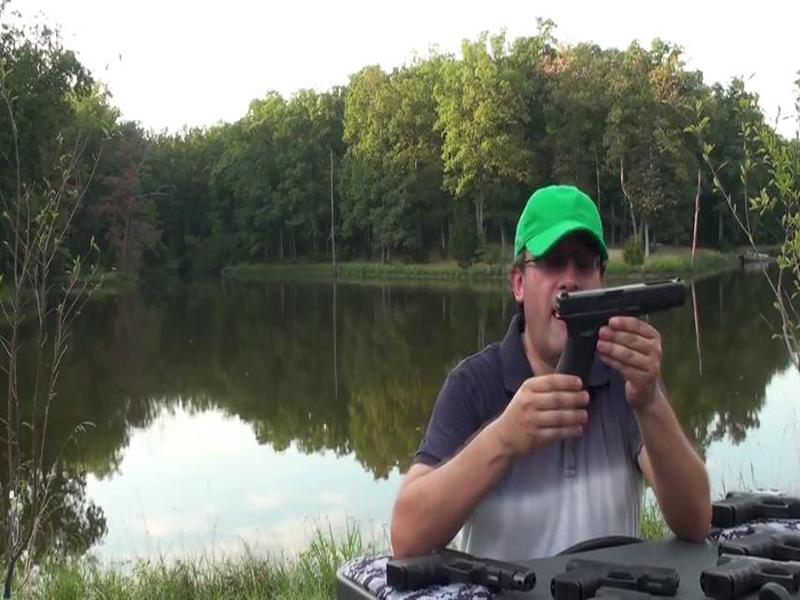Pistola: (543, 280, 687, 391), (379, 537, 538, 599), (556, 552, 678, 600)
